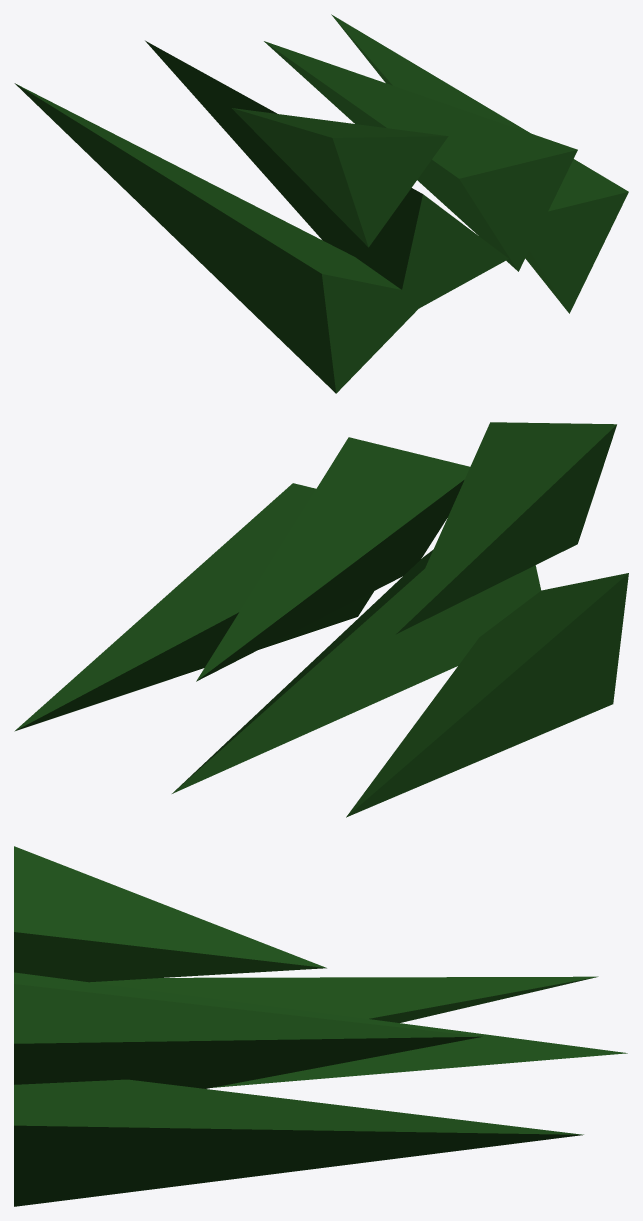
Rendered from Grass.fbx.
3 views of the same model, one above another, from view 1: azimuth 30°, elevation 25°; view 2: azimuth 150°, elevation 25°; view 3: azimuth 270°, elevation 25° (orthographic). The views are drawn at different scales.
Visible parts, largest first — view 1: Grass; view 2: Grass; view 3: Grass.
Boxes of the visible parts, box(x1,y1,x2,y2) form: Grass: box(14, 14, 628, 393); Grass: box(14, 422, 628, 817); Grass: box(14, 846, 627, 1206).
Bounding box in the file's own units: 24.15 × 17.88 × 37.59.
